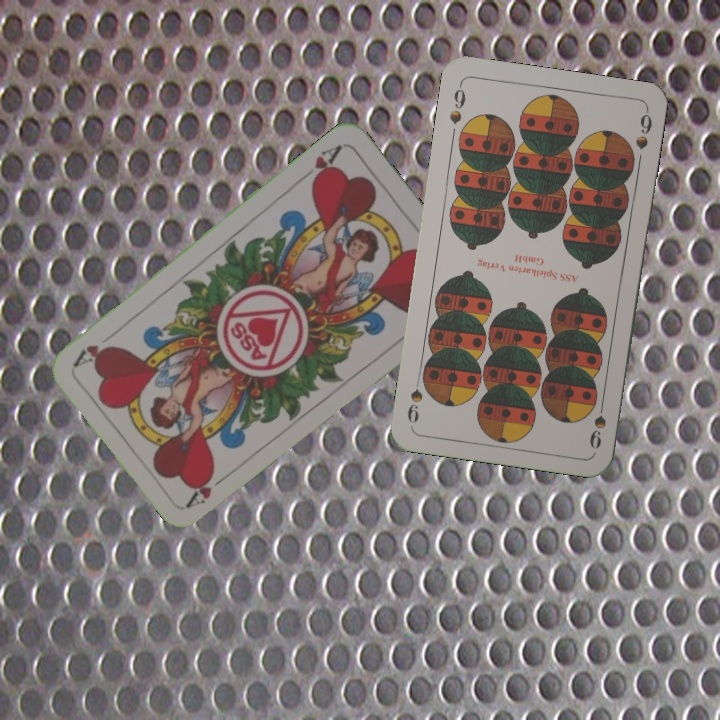HA: (296, 140, 346, 187), (183, 468, 234, 511)
S9: (585, 393, 609, 452), (445, 80, 468, 127)
